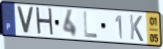1: (115, 14, 124, 40)
4: (62, 9, 79, 40)
H: (34, 6, 56, 38)
K: (128, 14, 144, 44)
L: (82, 11, 99, 40)
V: (15, 5, 36, 36)
